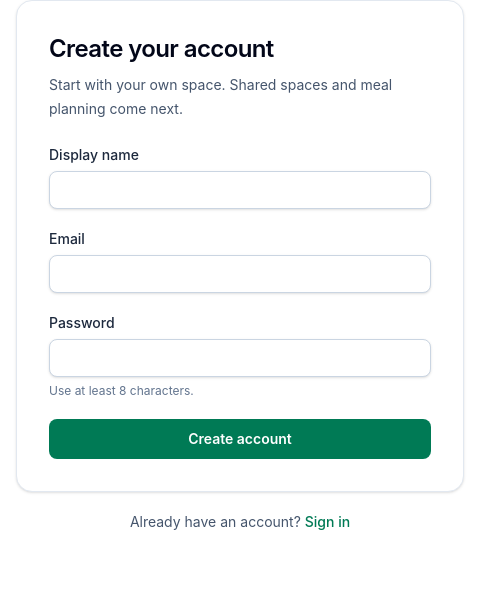
SignUpPage › shows sign-up errors
Type "Alice" into the field labelled "Display name".
click(240, 190); type("Alice")  # box [49, 171, 431, 209]
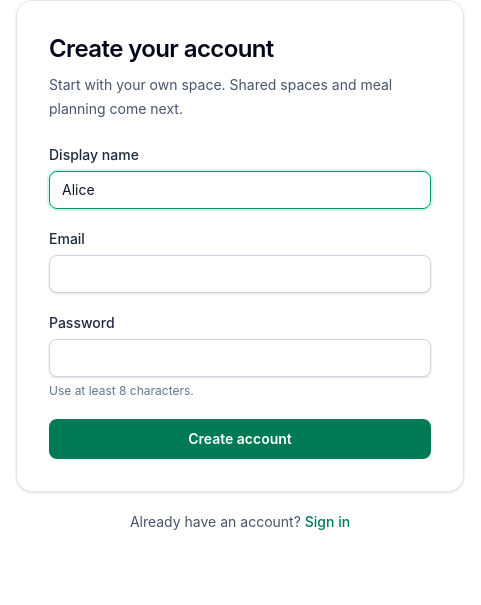
Type "alice@example.com" into the field labelled "Email".
click(240, 274); type("alice@example.com")  # box [49, 255, 431, 293]
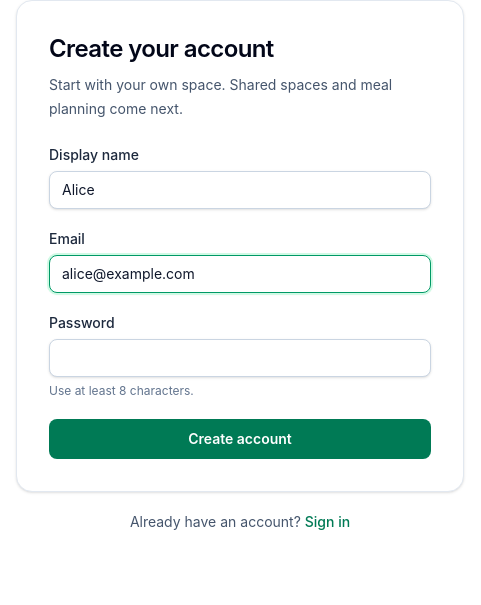
Type "supersecret" into the password field labelled "Password".
click(240, 358); type("supersecret")  # box [49, 339, 431, 377]
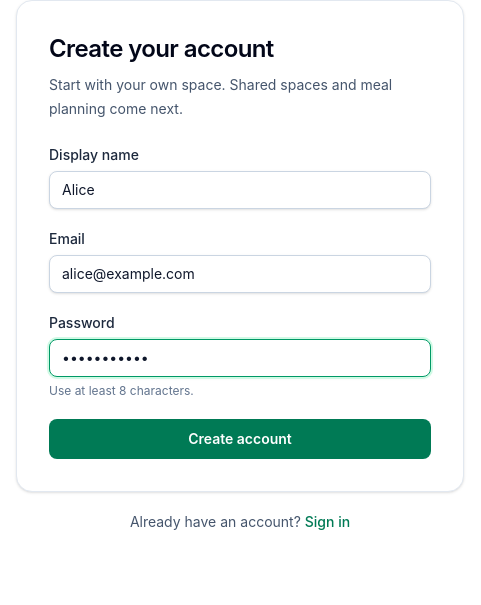
Click the button "Create account".
click(240, 439)  # box [49, 419, 431, 459]
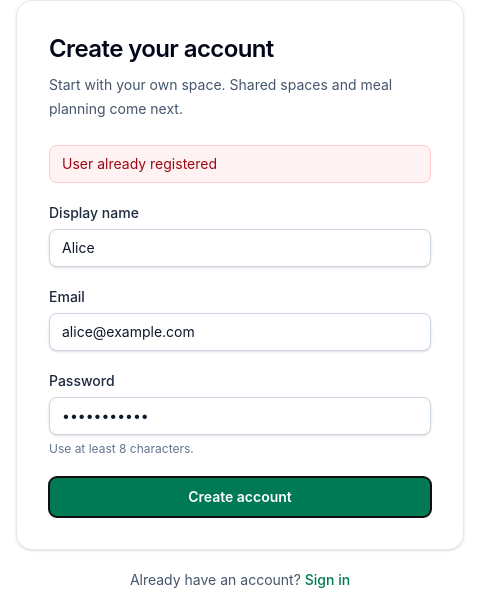
Expected: the message reads "User already registered", [62, 155, 217, 172]
